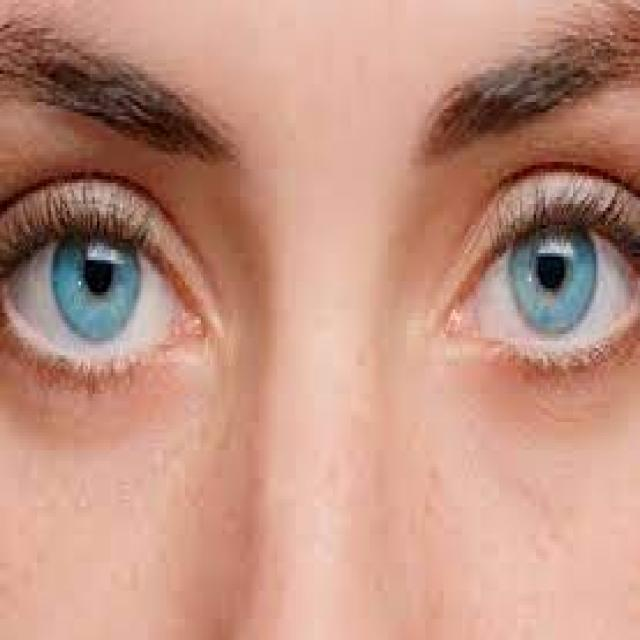Eyes-iris: (48, 211, 145, 355), (504, 205, 601, 349)
